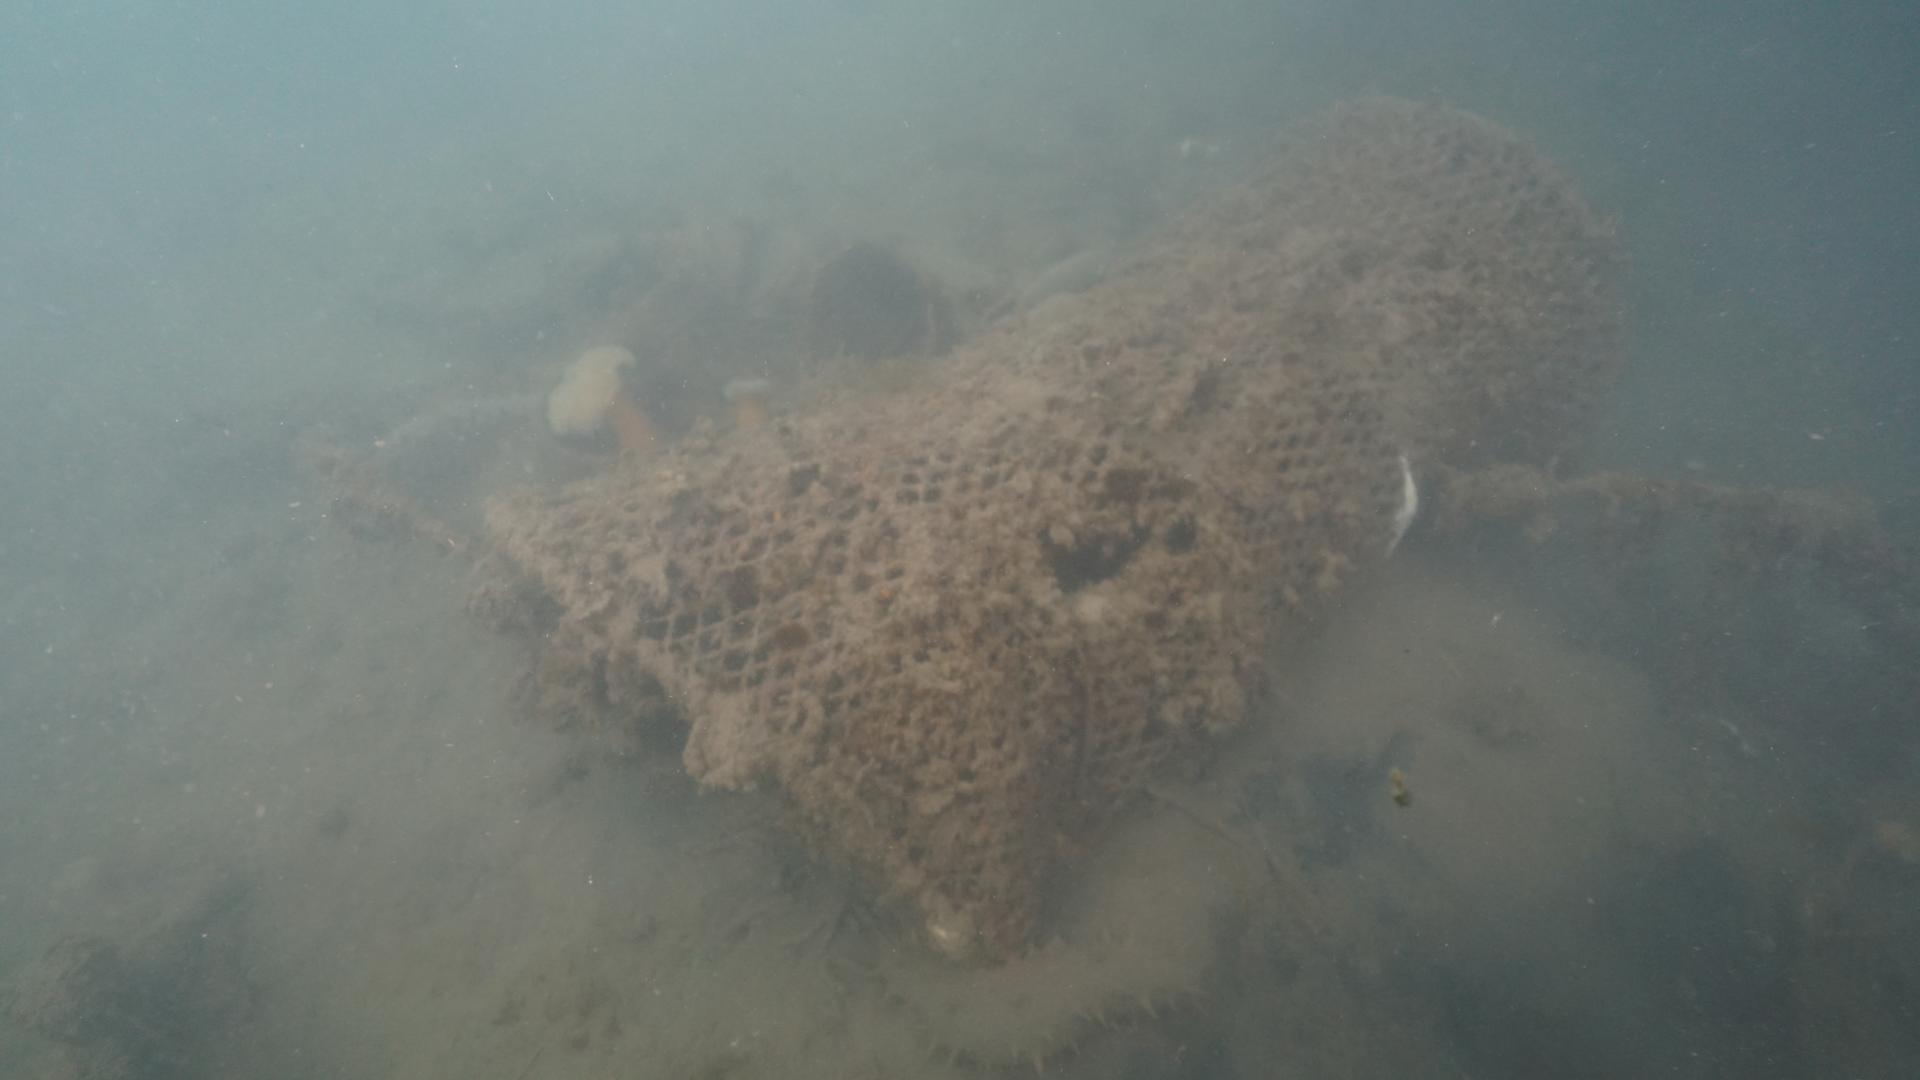spring fish trap: (480, 75, 1615, 961)
